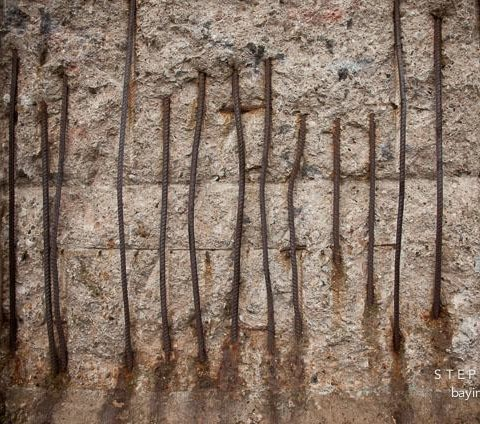Exposed reinforcement: (116, 1, 136, 373), (187, 70, 208, 363), (49, 73, 69, 373), (391, 1, 407, 353), (39, 99, 59, 379), (228, 69, 246, 344), (287, 112, 308, 343), (259, 61, 276, 334), (430, 1, 444, 320), (158, 97, 172, 366), (8, 48, 19, 354), (366, 110, 377, 304), (332, 118, 342, 269)
